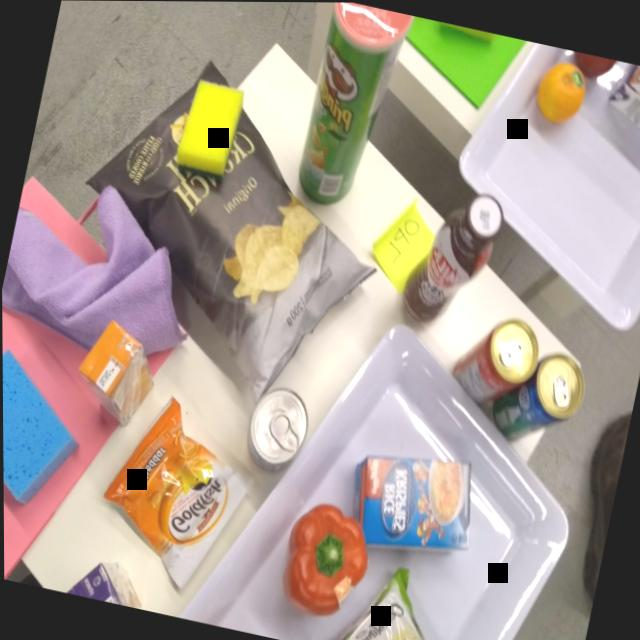cereal: (333, 430, 491, 579)
chocolate_drink: (392, 176, 511, 340)
cloth_opl: (1, 165, 214, 371)
coke: (444, 302, 549, 415)
crackers: (79, 382, 278, 608)
grape_juice: (60, 546, 152, 609)
orange_juice: (64, 311, 169, 436)
paprika: (267, 487, 383, 634)
sausages: (236, 378, 316, 480)
scrubby: (169, 74, 250, 187)
sponge_opl: (2, 339, 98, 521)
sprite: (481, 338, 594, 458)
